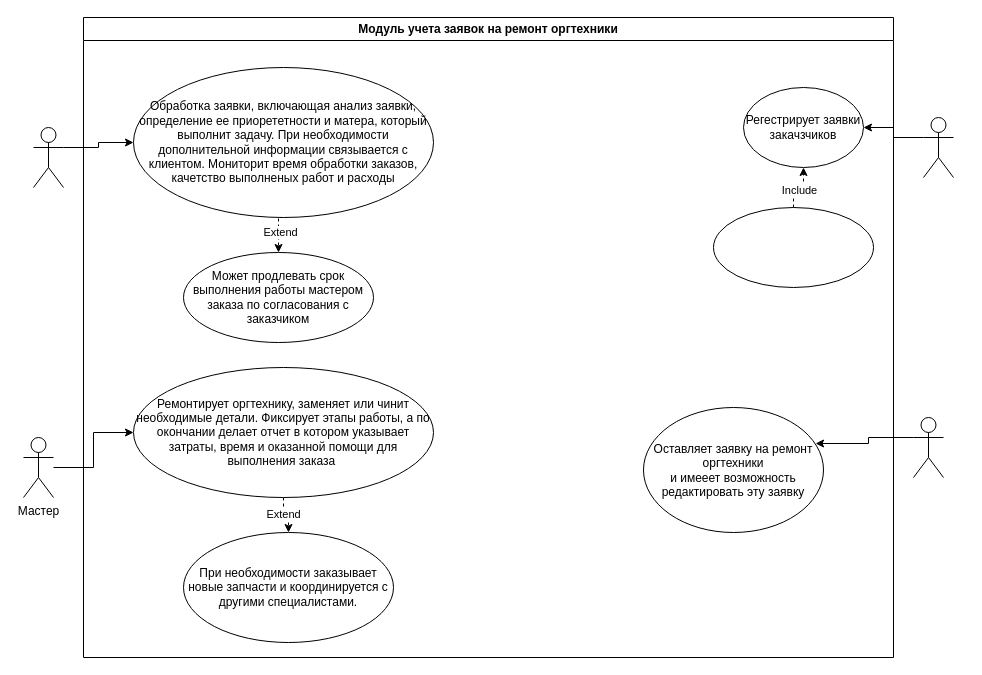
Some shapes in this 982 by 675 pixel diagram are drawn without their labels. The shapes that lost their labels are listed below. From the top down, each one's centre as x and y in pixels, then its label:
At (x=48, y=157): "Менеджер".
At (x=938, y=147): "Оператор".
At (x=793, y=247): "Присваивает уникальный идентификатор заявки и сохраняет его".
At (x=928, y=447): "Заказчик".
